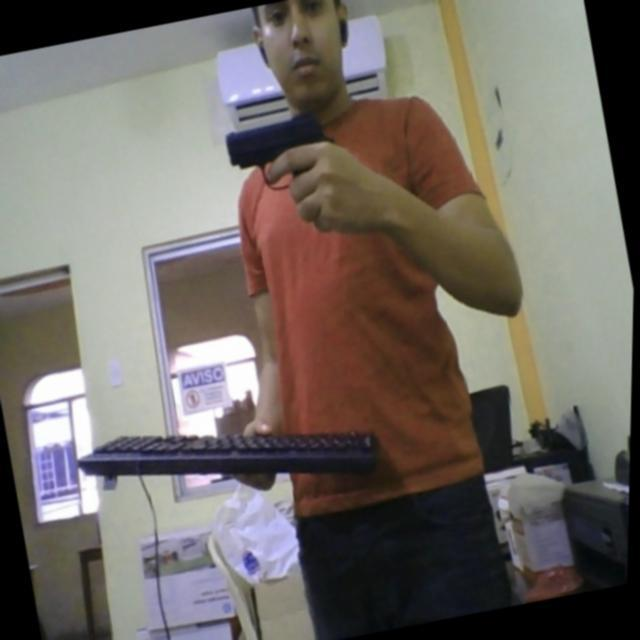weapon: (215, 102, 352, 212)
